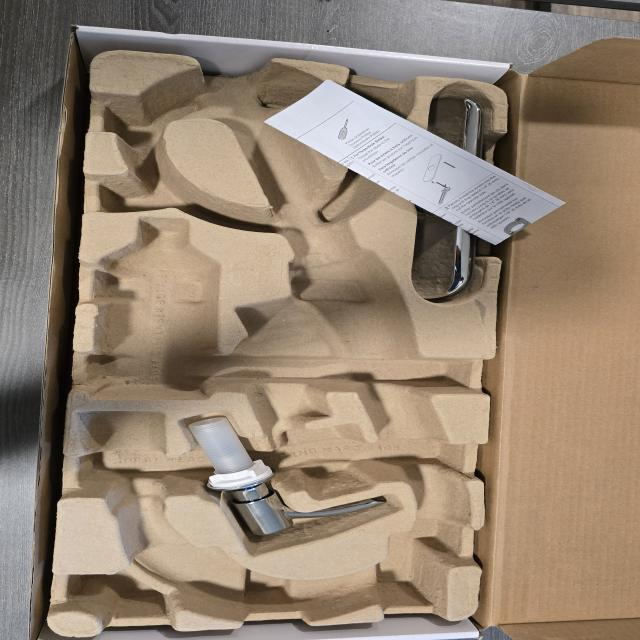1m: (75, 60, 479, 620)
2: (188, 416, 389, 537)
3m: (86, 218, 219, 401)
4o: (410, 94, 481, 301)
5m: (338, 93, 402, 143)
6m: (103, 82, 203, 154)
7m: (103, 153, 230, 224)
8: (262, 80, 566, 246)
